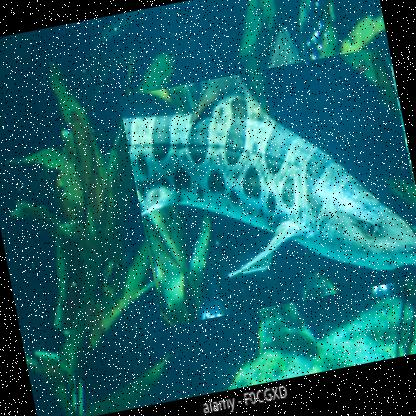zebra_shark: (118, 45, 415, 329)
